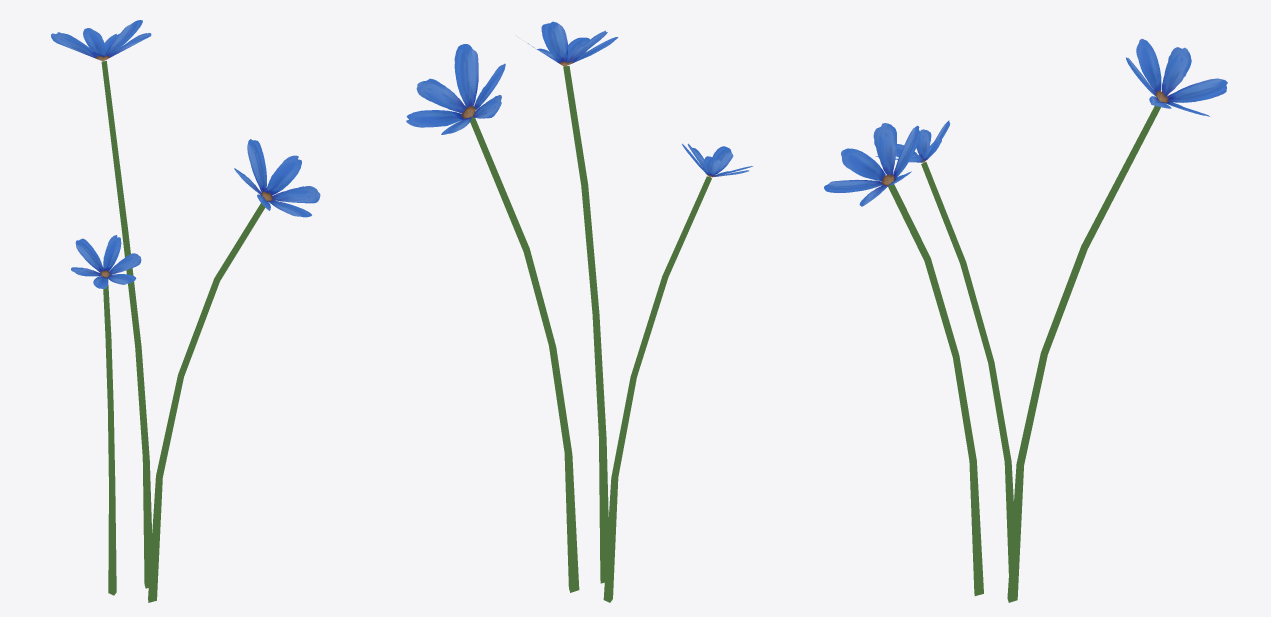
File: SM_Flower_03_01.fbx
3 renders of one model, left to right at view 1: azimuth 30°, elevation 25°; view 2: azimuth 150°, elevation 25°; view 3: azimuth 270°, elevation 25°, orthographic. The views are drawn at different scales.
Visible parts, largest first — view 1: SM_Flower_03_01_LOD0; view 2: SM_Flower_03_01_LOD0; view 3: SM_Flower_03_01_LOD0.
Part boxes in pixels (bbox=[...]): SM_Flower_03_01_LOD0: bbox=[51, 20, 320, 602]; SM_Flower_03_01_LOD0: bbox=[406, 21, 752, 602]; SM_Flower_03_01_LOD0: bbox=[824, 39, 1227, 602].
Size of what is drawn, in the model's own units: 32.53 by 63.15 by 44.55.
